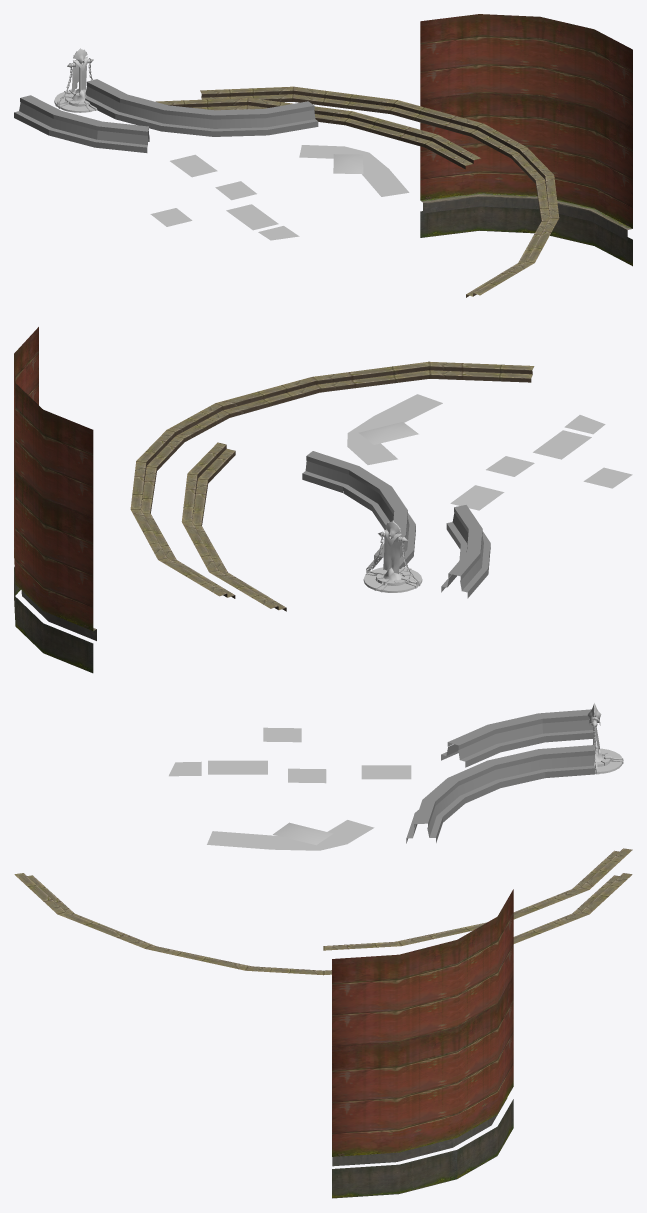
The model's file is d_2601_Thing.FBX.
3 renders of one model, top to bottom at view 1: azimuth 30°, elevation 25°; view 2: azimuth 150°, elevation 25°; view 3: azimuth 270°, elevation 25°, orthographic. The views are drawn at different scales.
Visible parts, largest first — view 1: Object057, Line002, d_1011_deco015, Line003, d_1011_deco016, Object059, Plane001, Object063, Plane003; view 2: Object057, Line002, d_1011_deco015, Line003, Object059, Plane001, d_1011_deco016, Object063, Plane003; view 3: Object057, d_1011_deco015, d_1011_deco016, Line002, Object059, Plane001, Line003, Object063.
Part boxes in pixels (x1,y1,x2,y2): Object057: (420,14,632,266); Line002: (200,86,559,297); d_1011_deco015: (85,79,318,136); Line003: (155,97,480,169); d_1011_deco016: (14,95,149,152); Object059: (299,145,409,196); Plane001: (170,154,299,240); Object063: (54,48,97,112); Plane003: (150,208,192,226); Object057: (14,327,96,673); Line002: (130,361,534,598); d_1011_deco015: (302,451,415,572); Line003: (181,442,286,611); Object059: (347,394,442,464); Plane001: (450,415,605,510); d_1011_deco016: (441,505,490,598); Object063: (363,520,422,592); Plane003: (583,467,632,488); Object057: (332,889,513,1198); d_1011_deco015: (406,745,594,843); d_1011_deco016: (441,709,592,767); Line002: (14,873,632,975); Object059: (207,820,374,850); Plane001: (169,760,411,783); Line003: (323,848,632,950); Object063: (587,703,623,774).
Bounding box in the file's own units: 7604 × 3449 × 7379.
